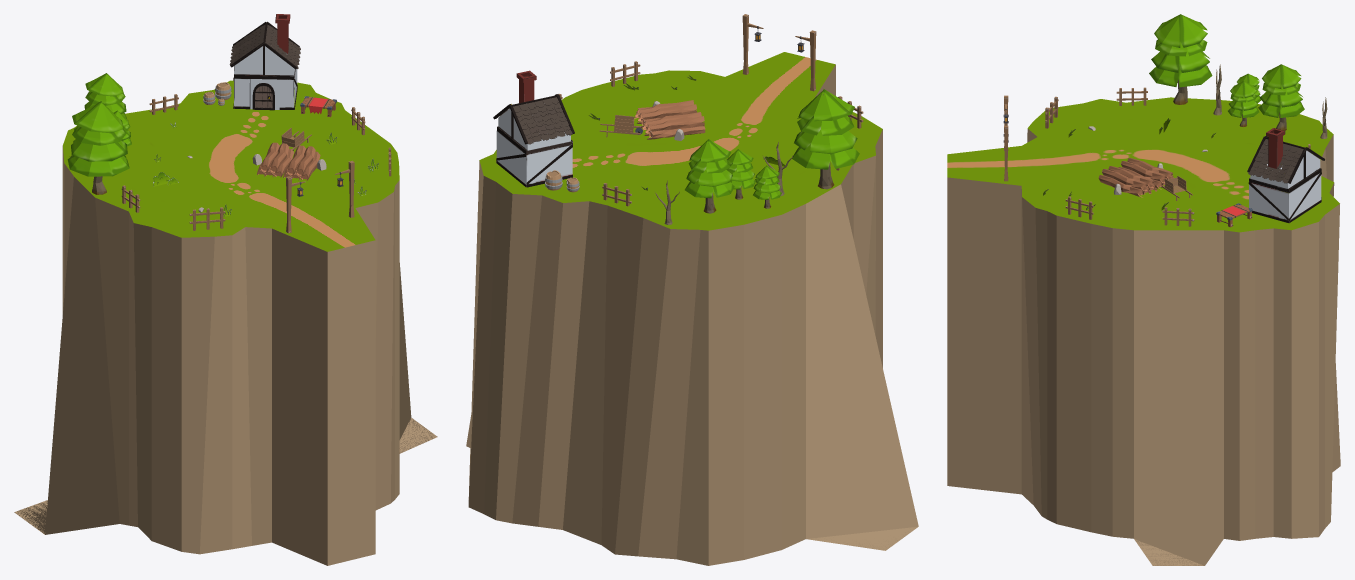
The model's file is Map 1_1.fbx.
The picture shows the model from 3 angles, left to right: view 1: azimuth 30°, elevation 25°; view 2: azimuth 150°, elevation 25°; view 3: azimuth 270°, elevation 25°; orthographic projection. The views are drawn at different scales.
Parts seen in each view (by area): view 1: Plane, Plane.001, Plane.029, Circle.003, Circle.049; view 2: Plane, Plane.001, Plane.029, Circle.003, Circle.049, Circle.001, Circle.002; view 3: Plane, Plane.001, Plane.029, Circle.003, Circle.049, Circle.001.
Part boxes in pixels (bbox=[...]): Plane: bbox=[14, 146, 437, 565]; Plane.001: bbox=[63, 80, 399, 251]; Plane.029: bbox=[229, 14, 300, 110]; Circle.003: bbox=[67, 101, 129, 194]; Circle.049: bbox=[84, 73, 126, 118]; Plane: bbox=[466, 64, 918, 565]; Plane.001: bbox=[479, 52, 882, 230]; Plane.029: bbox=[493, 70, 574, 187]; Circle.003: bbox=[792, 89, 859, 189]; Circle.049: bbox=[685, 139, 734, 213]; Circle.001: bbox=[726, 149, 755, 199]; Circle.002: bbox=[753, 165, 781, 208]; Plane: bbox=[947, 129, 1340, 565]; Plane.001: bbox=[947, 97, 1339, 232]; Plane.029: bbox=[1247, 128, 1324, 223]; Circle.003: bbox=[1149, 14, 1212, 104]; Circle.049: bbox=[1258, 64, 1304, 130]; Circle.001: bbox=[1228, 81, 1259, 126].
Bounding box in the file's own units: 15497 × 15158 × 13608.
37 materials, 36 textured.
